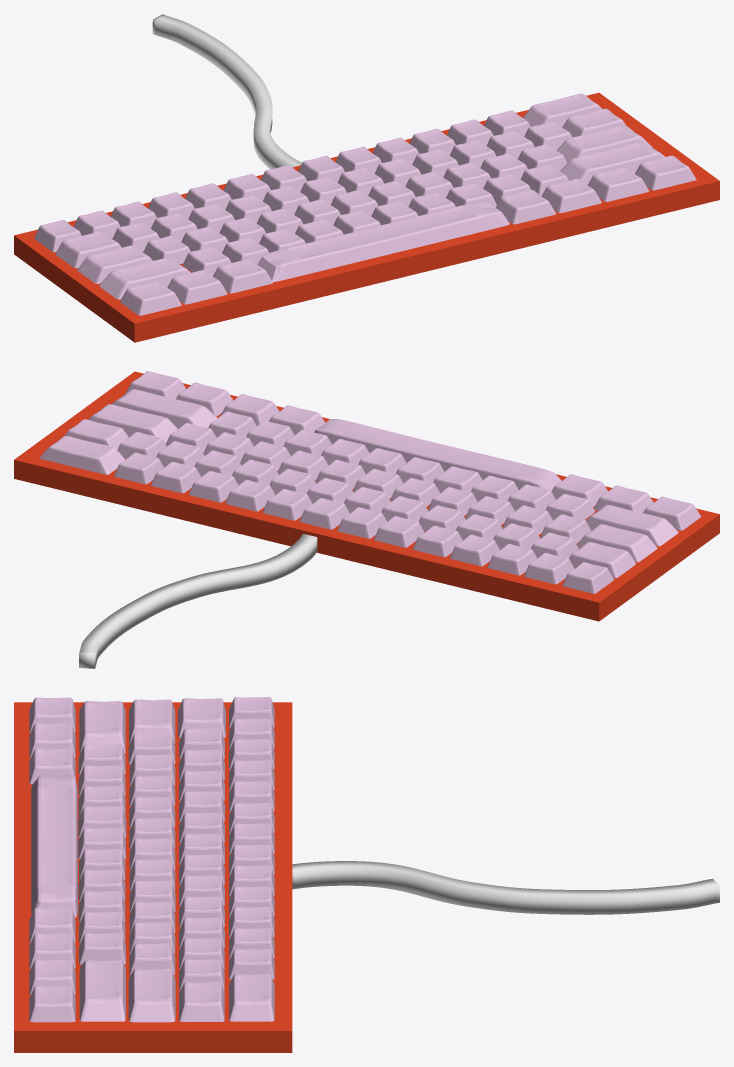
File: low poly keyboard.fbx
The picture shows the model from 3 angles, top to bottom: view 1: azimuth 30°, elevation 25°; view 2: azimuth 150°, elevation 25°; view 3: azimuth 270°, elevation 25°; orthographic projection. The views are drawn at different scales.
Parts seen in each view (by area): view 1: key, case, cable; view 2: key, case, cable; view 3: key, case, cable.
Boxes of the visible parts, x1,y1,x2,y2 form: key: [34, 93, 696, 315]; case: [14, 92, 719, 342]; cable: [152, 14, 301, 169]; key: [40, 371, 701, 593]; case: [14, 371, 719, 621]; cable: [79, 534, 317, 668]; key: [29, 697, 274, 1022]; case: [14, 702, 292, 1052]; cable: [292, 861, 719, 914].
Size of the model in its own units: 485 by 25.48 by 440.
